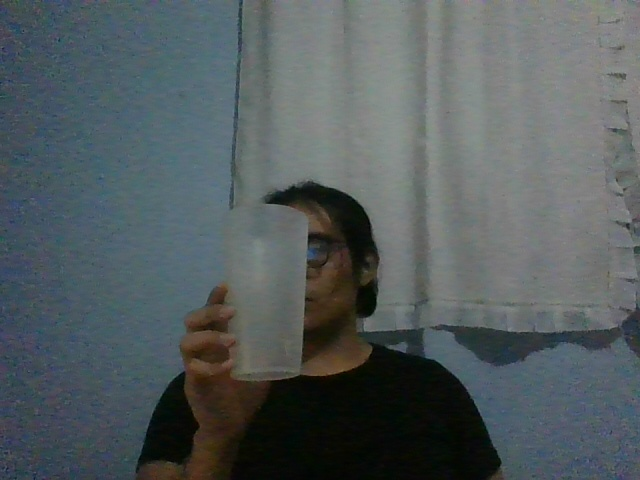vaso: (220, 203, 308, 382)
